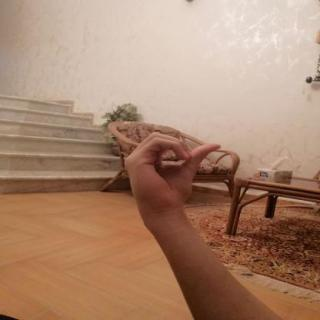WAW: (116, 127, 229, 219)
